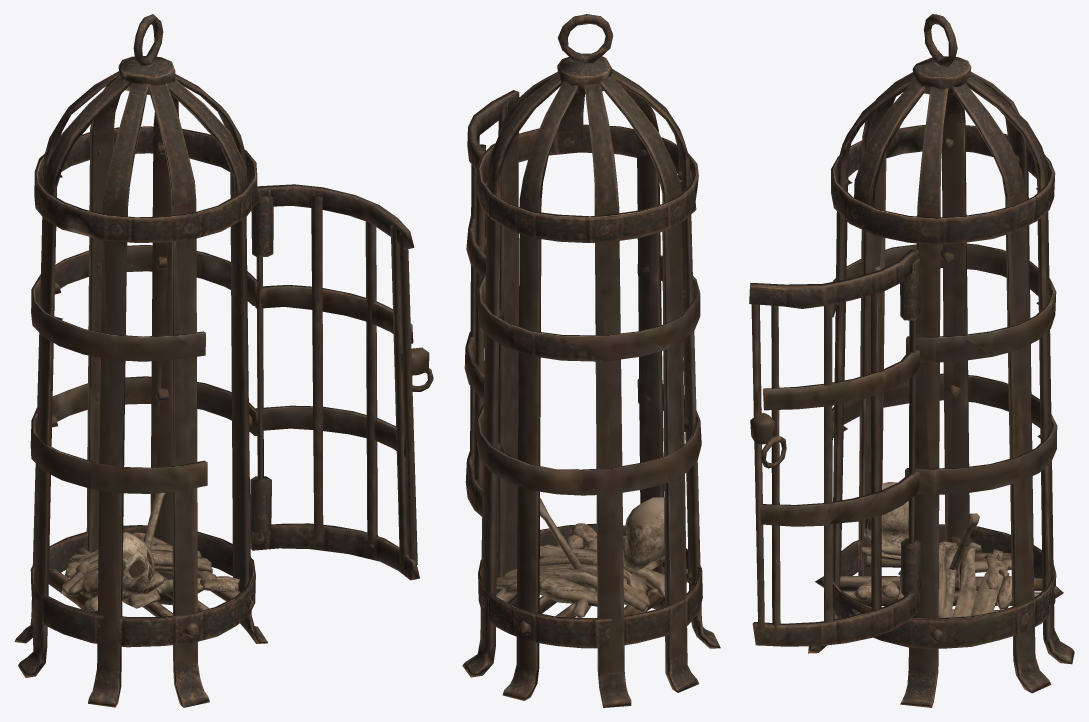
Rendered from p_cage.glb.
3 renders of one model, left to right at view 1: azimuth 30°, elevation 25°; view 2: azimuth 150°, elevation 25°; view 3: azimuth 270°, elevation 25°, orthographic.
Parts seen in each view (by area): view 1: p_cage; view 2: p_cage; view 3: p_cage.
Part boxes in pixels (left/top/right/bottom): p_cage: left=14, top=14, right=433, bottom=707; p_cage: left=462, top=14, right=720, bottom=707; p_cage: left=749, top=14, right=1074, bottom=707.
Bounding box in the file's own units: 0.7792 × 1.5 × 0.6935.
1 material, 1 textured.
